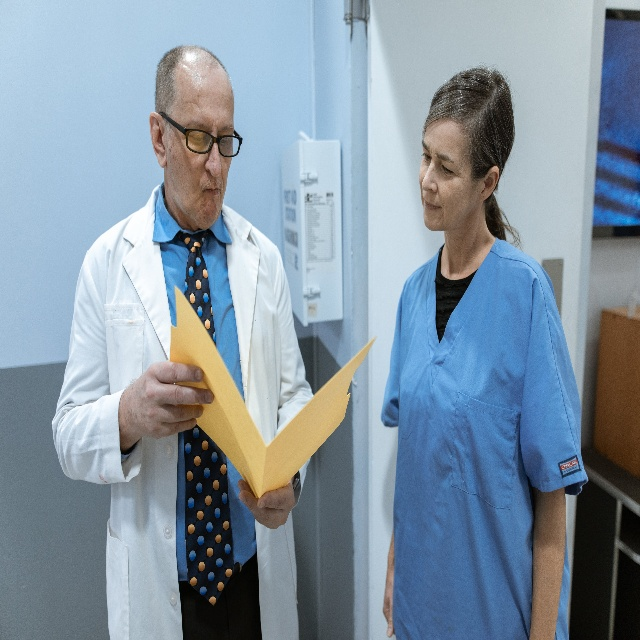Gafas: (160, 111, 242, 159)
Sin_guantes: (128, 358, 214, 438), (237, 475, 297, 530), (382, 547, 398, 634)
